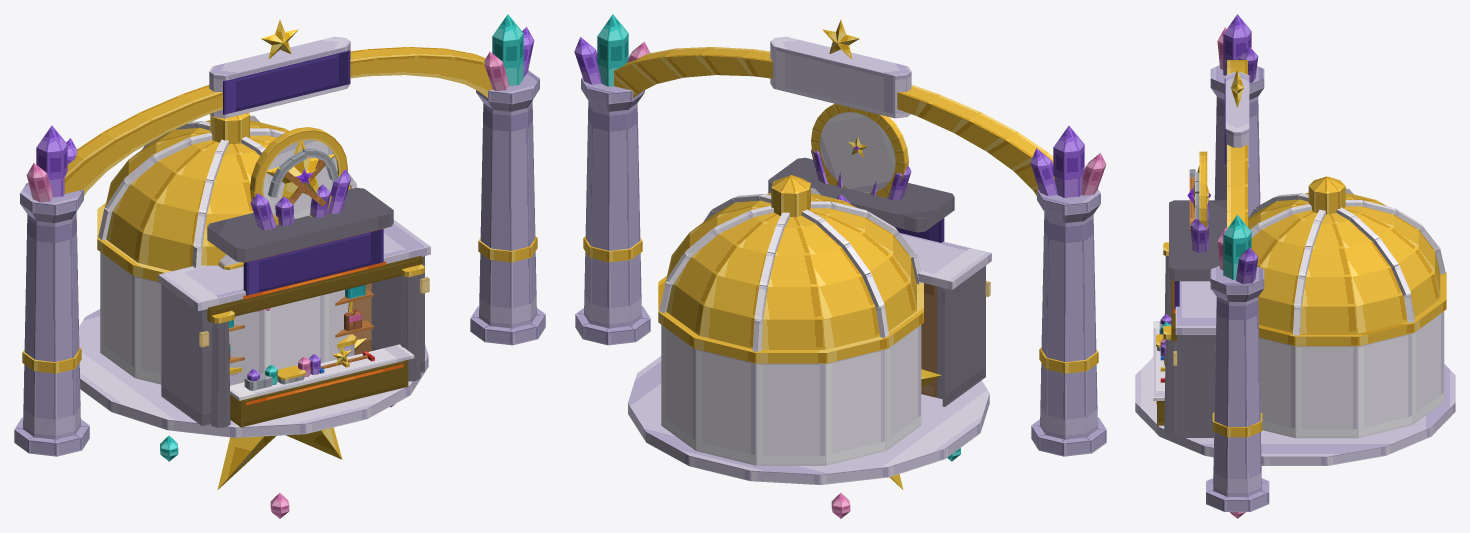
File: star-base-props.glb
3 views of the same model, side by side, from view 1: azimuth 30°, elevation 25°; view 2: azimuth 150°, elevation 25°; view 3: azimuth 270°, elevation 25° (orthographic). The views are drawn at different scales.
Visible parts, largest first — view 1: Pillar, Dome, Pillar.001, Drum, Arch, Plinth, Pediment, Board, Counter, PorticoPier, KeystoneBoard, PorticoRoof (+22 smaller); view 2: Dome, Drum, Pillar, Pillar.001, Plinth, Arch, Keystone, EmblemDisc, DrumBand, Pediment, PorticoPier, PorticoRoof (+11 smaller); view 3: Dome, Drum, Pillar.001, Plinth, PorticoPier.001, Pediment, Pillar, DrumBand, PorticoRoof, Arch, Keystone, PillarCrystal.003 (+8 smaller).
Part boxes in pixels (box(x1,y1,x2,y2)): Pillar: box(14, 183, 89, 456); Dome: box(105, 120, 350, 270); Pillar.001: box(470, 70, 545, 345); Drum: box(100, 252, 349, 384); Arch: box(64, 47, 520, 195); Plinth: box(79, 309, 428, 437); Pediment: box(207, 187, 393, 262); Board: box(243, 229, 383, 295); Counter: box(230, 360, 408, 427); PorticoPier: box(168, 293, 212, 426); KeystoneBoard: box(223, 50, 350, 114); PorticoRoof: box(158, 219, 430, 311); Dome: box(665, 193, 916, 349); Drum: box(661, 325, 921, 465); Pillar: box(1031, 189, 1106, 456); Pillar.001: box(575, 77, 650, 345); Plinth: box(628, 356, 989, 484); Arch: box(614, 47, 1070, 197); Keystone: box(770, 36, 911, 118); EmblemDisc: box(820, 112, 895, 193); DrumBand: box(658, 276, 923, 363); Pediment: box(768, 157, 954, 232); PorticoPier: box(937, 265, 985, 400); PorticoRoof: box(900, 233, 991, 289); Dome: box(1248, 192, 1440, 333); Drum: box(1259, 311, 1444, 438); Pillar.001: box(1206, 266, 1269, 511); Plinth: box(1135, 357, 1455, 465); PorticoPier.001: box(1177, 335, 1215, 437); Pediment: box(1169, 200, 1226, 281); Pillar: box(1210, 65, 1264, 217); DrumBand: box(1259, 272, 1446, 346); PorticoRoof: box(1175, 281, 1216, 334); Arch: box(1227, 60, 1247, 228); Keystone: box(1225, 72, 1249, 167); PillarCrystal.003: box(1223, 214, 1251, 279).
Bounding box in the file's own units: 20.42 × 18.85 × 12.16.
2 materials, 2 textured.
